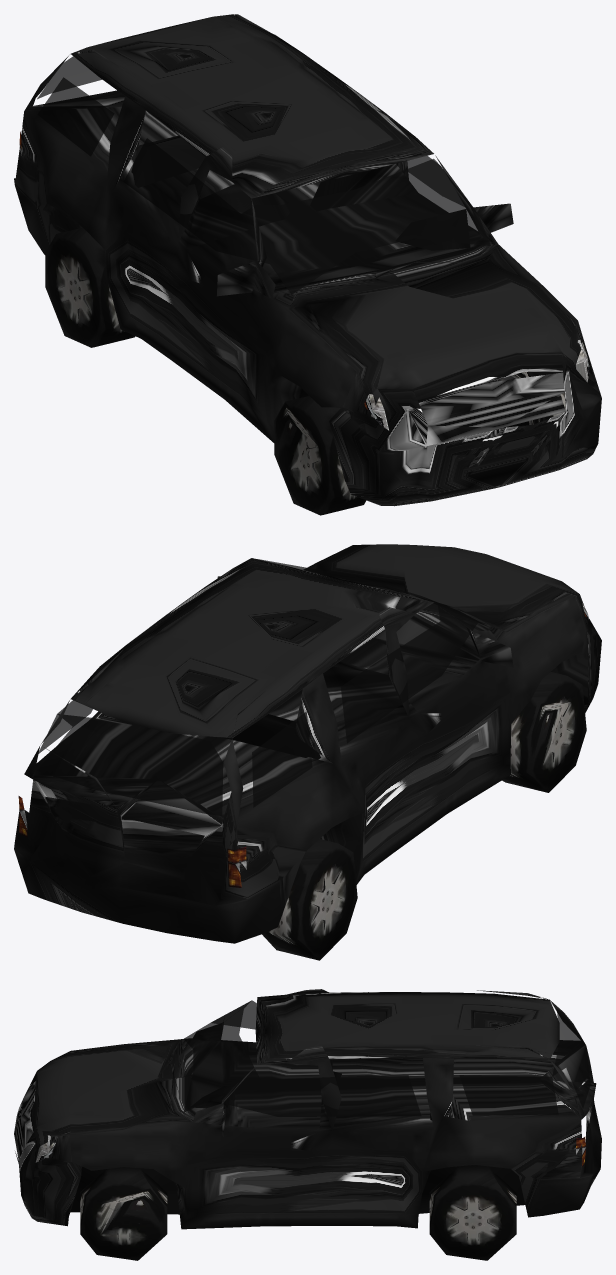
Rendered from suv_far.glb.
3 views of the same model, one above another, from view 1: azimuth 30°, elevation 25°; view 2: azimuth 150°, elevation 25°; view 3: azimuth 270°, elevation 25° (orthographic). The views are drawn at different scales.
Parts seen in each view (by area): view 1: body, wheel_fr, wheel_rr; view 2: body, wheel_rr, wheel_fr; view 3: body, wheel_rl, wheel_fl.
Part boxes in pixels (x1,y1,x2,y2): body: (14, 14, 601, 506); wheel_fr: (274, 396, 366, 515); wheel_rr: (45, 227, 135, 347); body: (14, 544, 601, 943); wheel_rr: (262, 839, 357, 960); wheel_fr: (502, 672, 586, 792); body: (14, 989, 601, 1229); wheel_rl: (429, 1165, 516, 1260); wheel_fl: (80, 1167, 167, 1260).
Size of the model in its own units: 2.17 by 1.8 by 4.88.
Materials: 4 (3 with a texture image).
